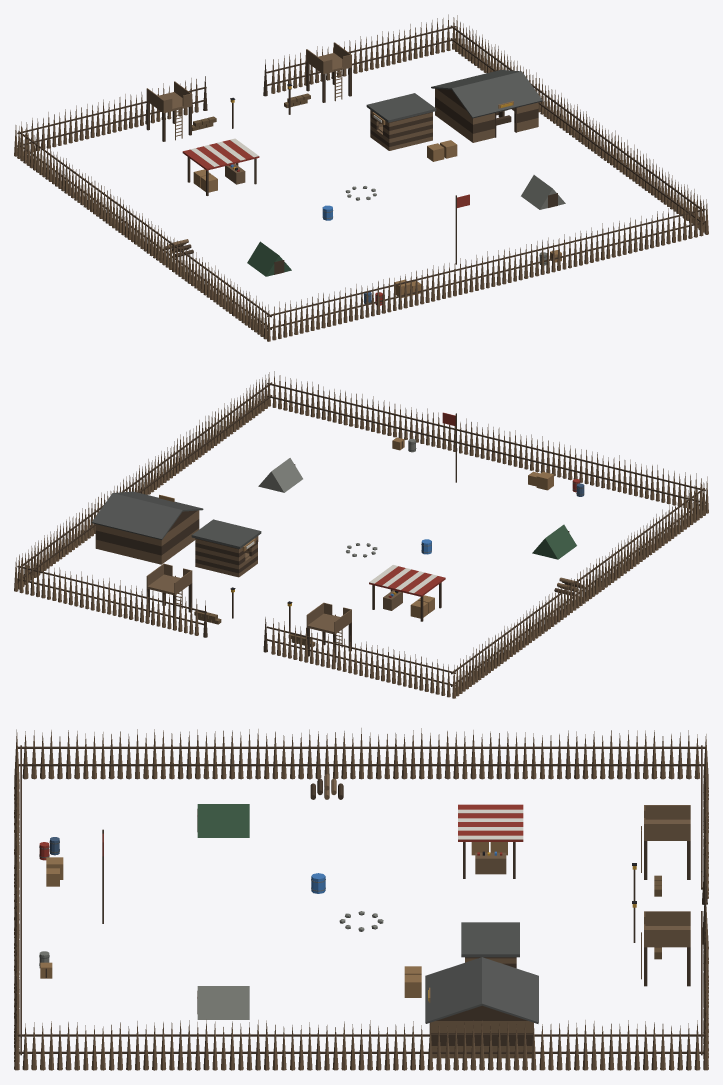
File: settlement.glb
3 views of the same model, one above another, from view 1: azimuth 30°, elevation 25°; view 2: azimuth 150°, elevation 25°; view 3: azimuth 270°, elevation 25° (orthographic). The views are drawn at different scales.
Parts seen in each view (by area): view 1: settlement; view 2: settlement; view 3: settlement.
Part boxes in pixels (<box>): settlement: <box>14,14,708,341</box>; settlement: <box>14,371,708,698</box>; settlement: <box>14,728,708,1070</box>.
Size of what is drawn, in the model's own units: 40.34 by 6.02 by 40.34.
1 material, 1 textured.
